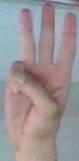W: (0, 2, 79, 161)
